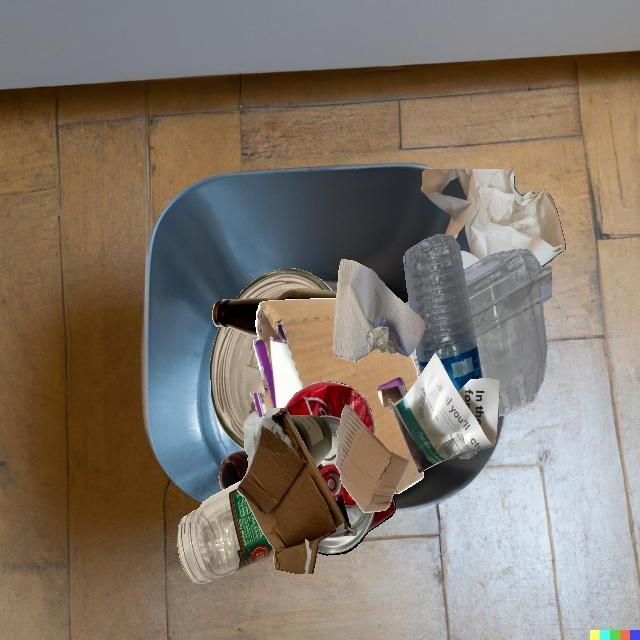cardboard: (253, 298, 424, 493), (237, 408, 357, 574), (335, 405, 409, 513)
glass: (177, 480, 274, 584), (210, 326, 260, 449), (212, 288, 337, 337), (235, 268, 332, 299), (290, 415, 332, 467), (218, 449, 249, 490)
metal: (284, 381, 396, 555)
paper: (421, 169, 566, 270), (388, 353, 500, 473), (333, 259, 426, 363), (265, 390, 266, 396)
plastic: (403, 234, 483, 390), (463, 248, 552, 367), (409, 301, 482, 378), (482, 367, 546, 416)
